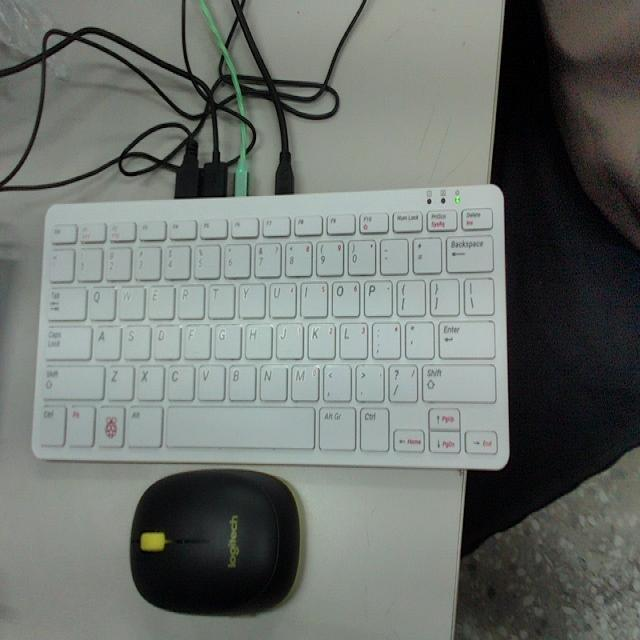keyboard: (34, 203, 504, 455)
